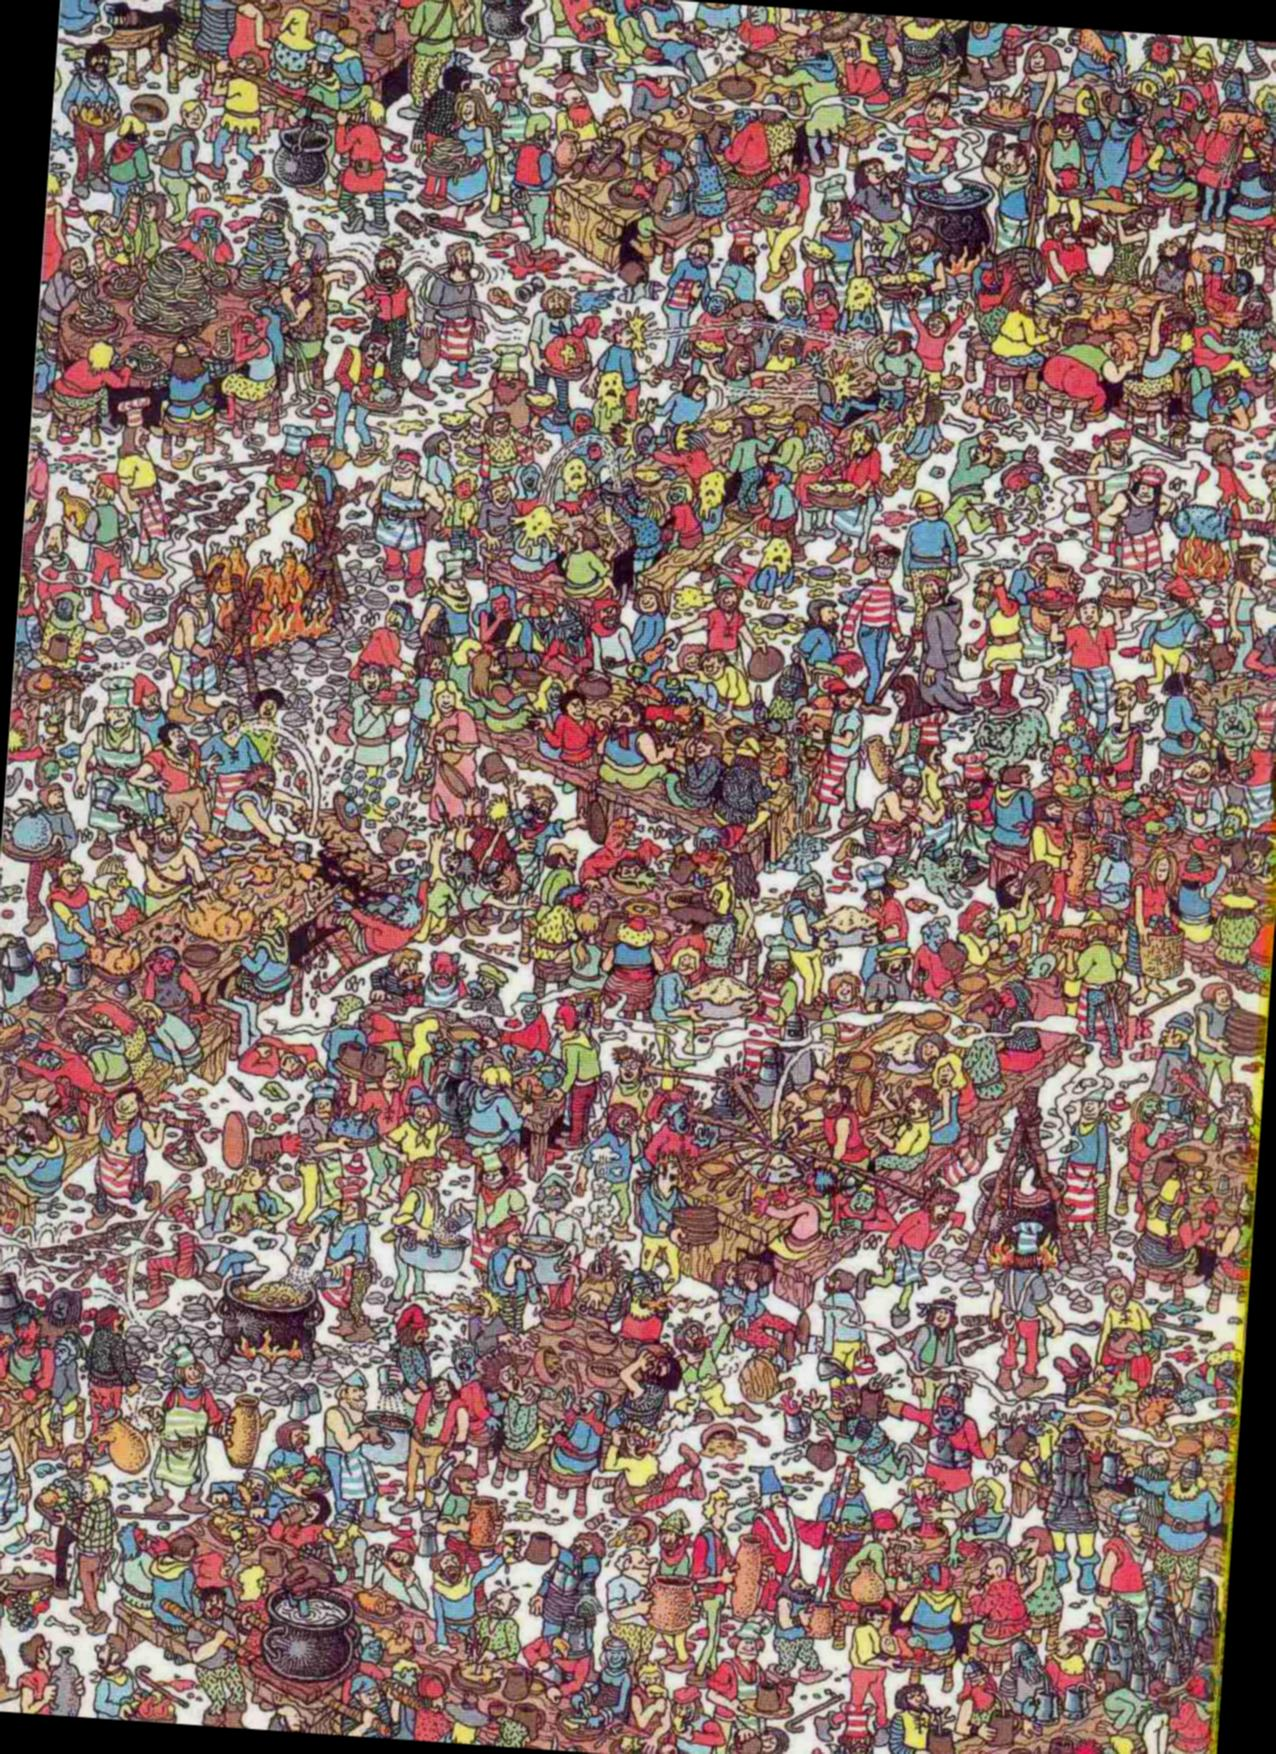waldo: (867, 532, 903, 580)
